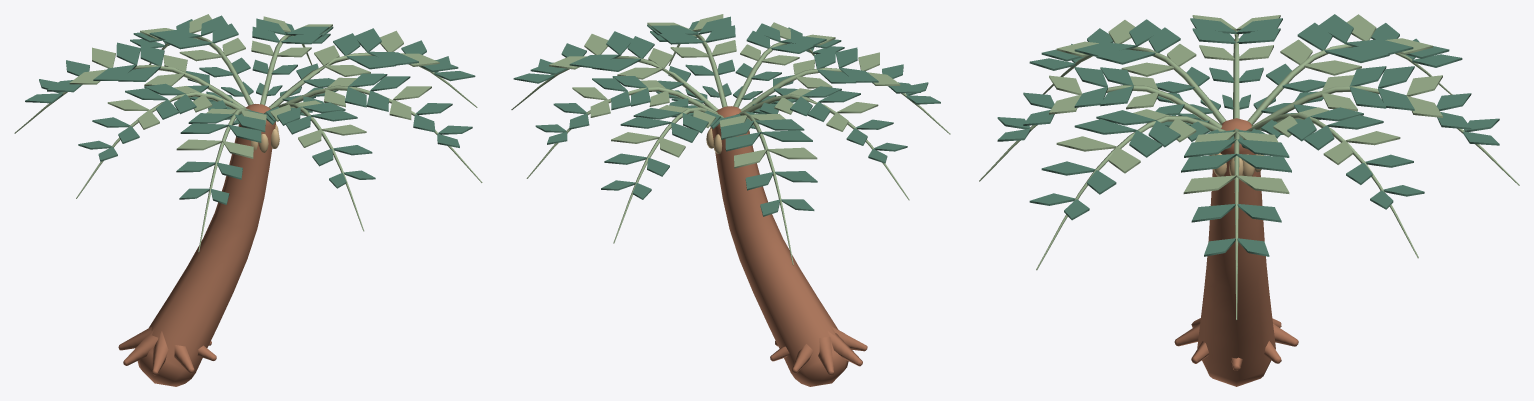
File: primeval-frontier-tree-fern-crooked-34f863e7__1725.glb
3 renders of one model, left to right at view 1: azimuth 30°, elevation 25°; view 2: azimuth 150°, elevation 25°; view 3: azimuth 270°, elevation 25°, orthographic. The views are drawn at different scales.
Visible parts, largest first — view 1: tree-fern-crooked; view 2: tree-fern-crooked; view 3: tree-fern-crooked.
Part boxes in pixels (x1=…): tree-fern-crooked: x1=14, y1=14, x2=482, y2=386; tree-fern-crooked: x1=511, y1=14, x2=950, y2=386; tree-fern-crooked: x1=979, y1=14, x2=1519, y2=386.
Bounding box in the file's own units: 3.31 × 2.26 × 3.16.
